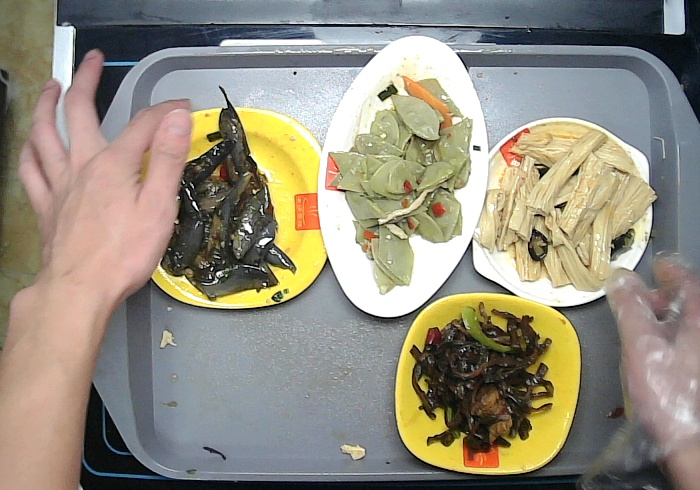SHKJ-Bao_Yu_Pan: (471, 117, 653, 305)
SHKJ-Huang_Se_Cai_Die: (391, 291, 583, 474)
SHKJ-Huang_Se_Si_Fang_Cai_Die: (132, 107, 329, 309)
SHKJ-Yu_Pan: (314, 34, 488, 318)
